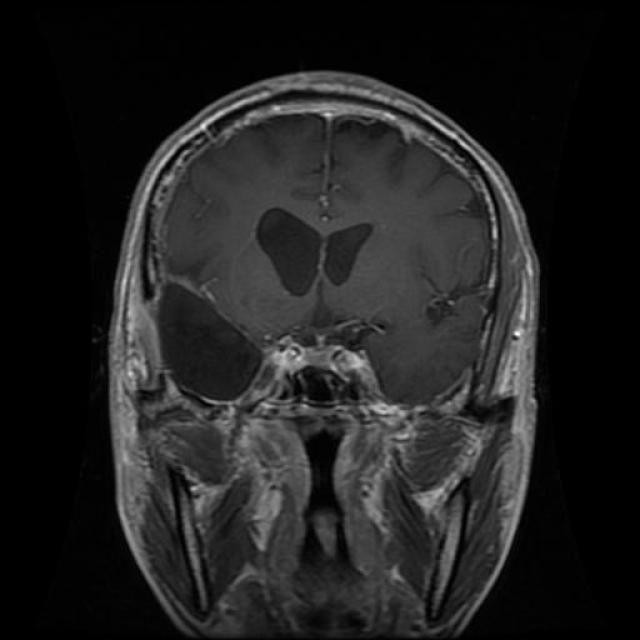glioma: (254, 198, 378, 308)
